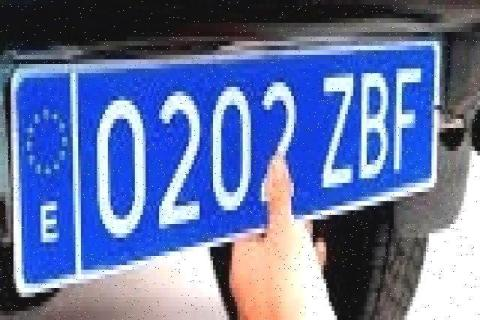LicensePlate: (6, 21, 455, 299)
